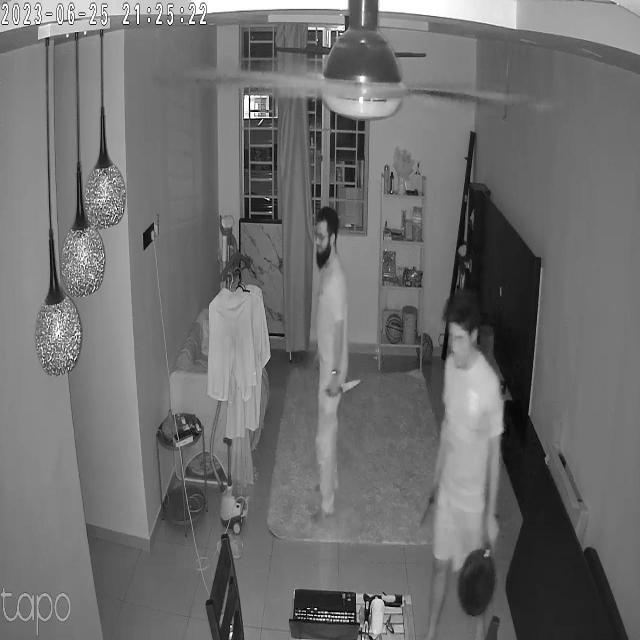Knife: (325, 373, 373, 405)
